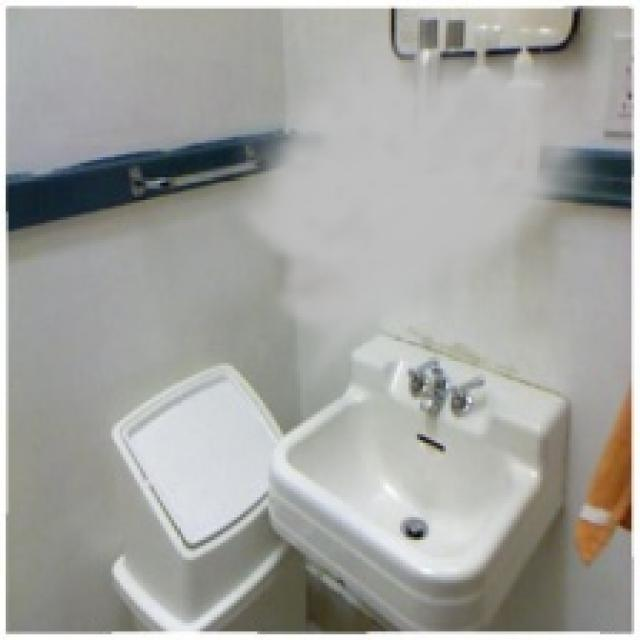smoke: (226, 31, 617, 400)
